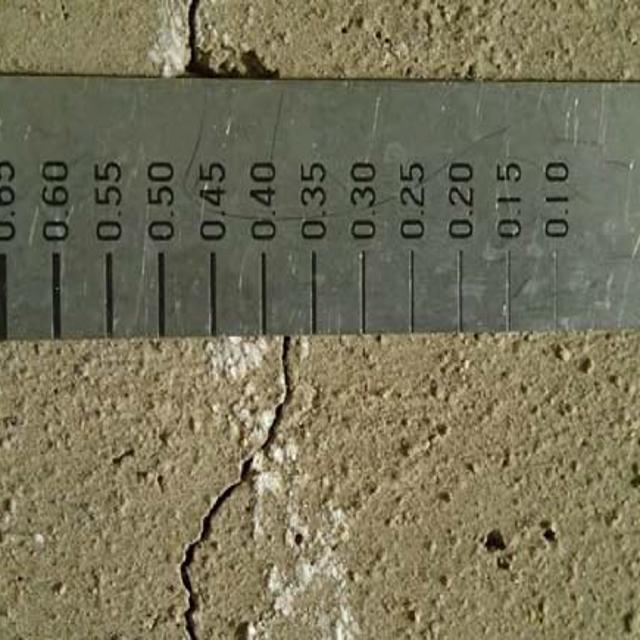crack: (150, 333, 299, 640), (140, 6, 279, 83)
